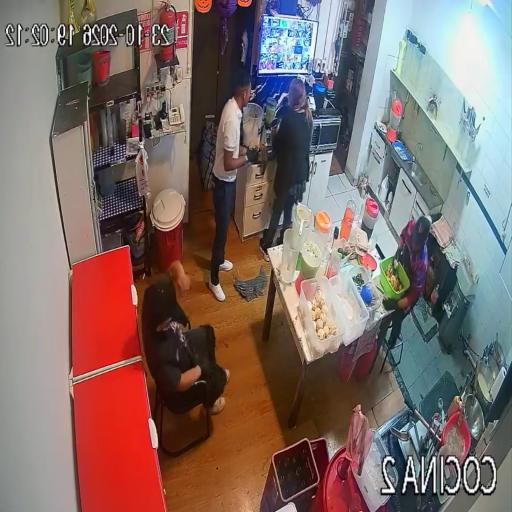Envase Llajua: (448, 395, 465, 417)
Jarra1: (362, 197, 379, 241)
Jarra2: (315, 210, 333, 244)
Jarra3: (292, 203, 312, 249)
Jarra4: (280, 229, 299, 283)
Microondas: (310, 115, 341, 153)
Persona1: (142, 260, 230, 414)
Persona2: (396, 217, 430, 313), (390, 313, 402, 341)
Persona3: (260, 79, 312, 253)
Persona4: (208, 69, 257, 301)
Taper2: (358, 272, 382, 312)
Taper3: (329, 272, 369, 345)
Taper4: (299, 276, 348, 359)
